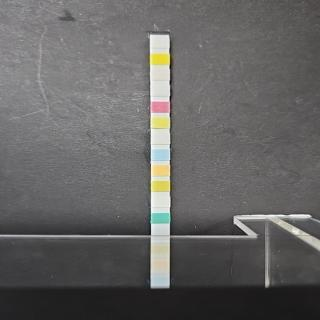mark: (152, 212, 170, 225), (150, 68, 169, 80), (151, 195, 169, 207), (152, 179, 170, 191), (152, 164, 170, 176), (152, 148, 170, 160), (151, 132, 169, 144), (152, 116, 170, 128), (151, 101, 169, 113), (151, 53, 169, 65), (150, 85, 169, 96), (151, 38, 169, 49)
